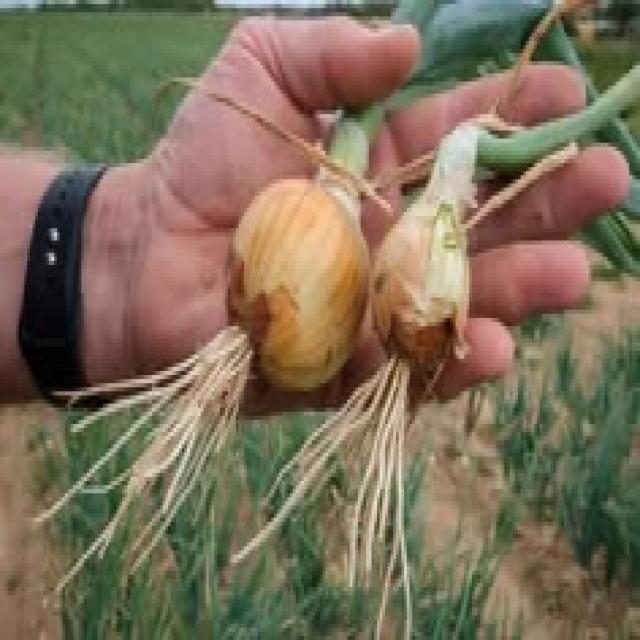rotten: (348, 63, 636, 587)
sprouting: (211, 38, 390, 402)
